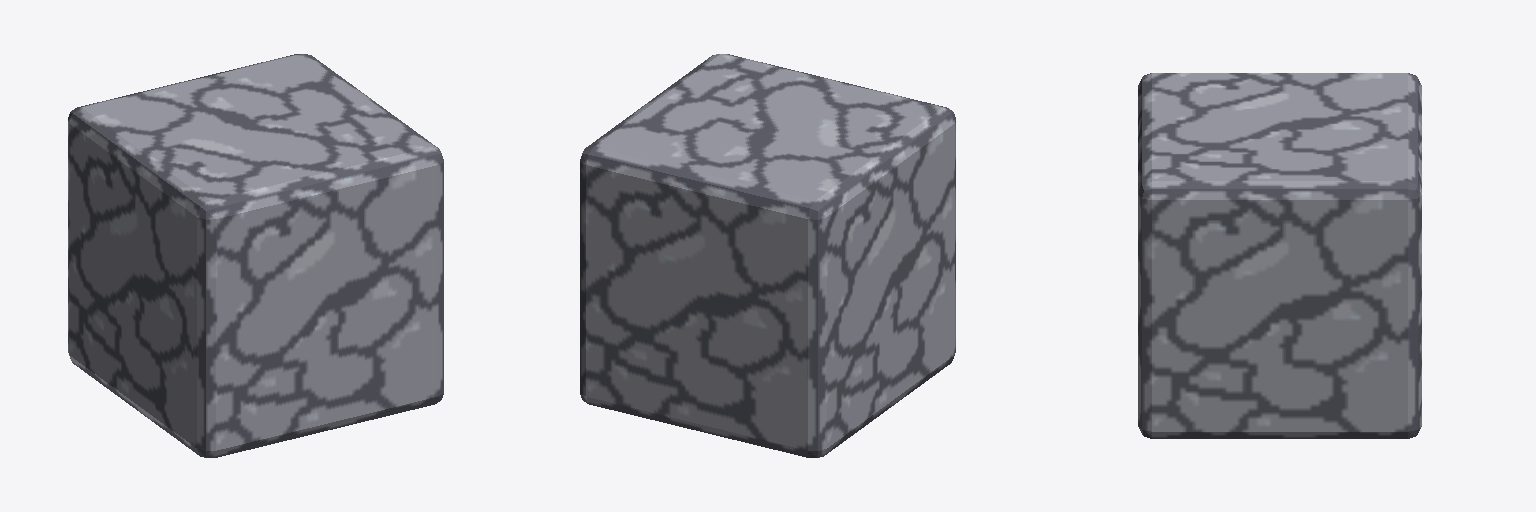
The picture shows the model from 3 angles: view 1: azimuth 30°, elevation 25°; view 2: azimuth 150°, elevation 25°; view 3: azimuth 270°, elevation 25°; orthographic projection.
Visible parts, largest first — view 1: 立方体; view 2: 立方体; view 3: 立方体.
Part boxes in pixels (left/top/right/bottom): 立方体: left=68, top=54, right=443, bottom=457; 立方体: left=580, top=54, right=955, bottom=457; 立方体: left=1138, top=73, right=1421, bottom=438.
Size of the model in its own units: 2 by 2 by 2.
Materials: 1 (1 with a texture image).